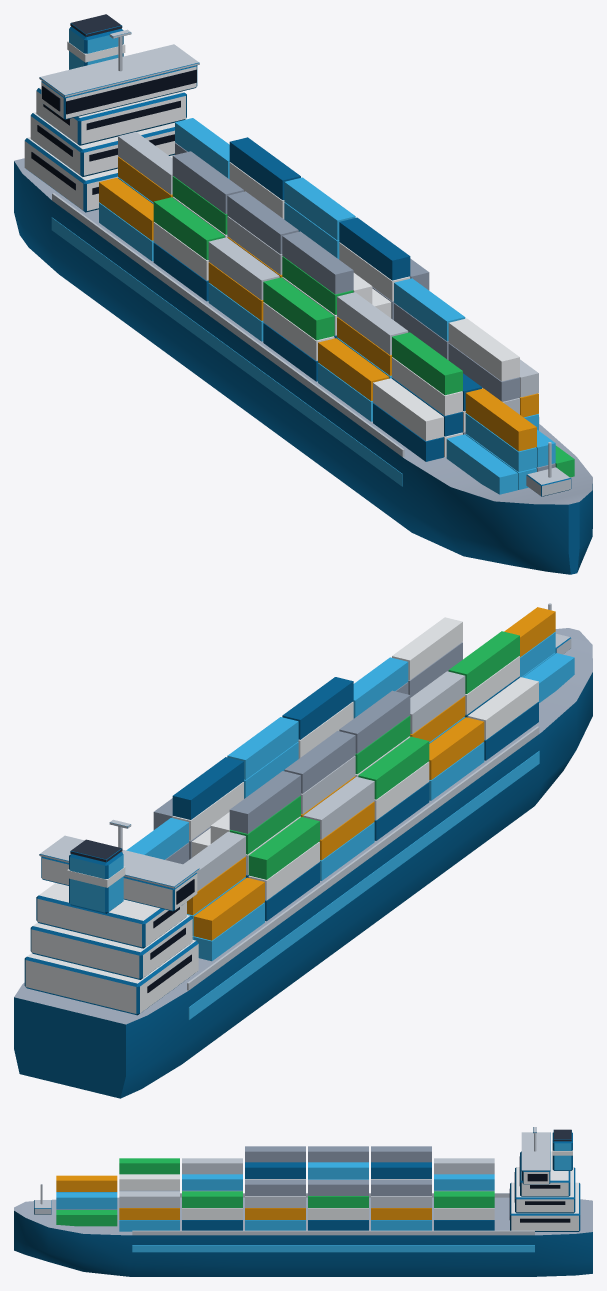
File: container_ship.glb
3 views of the same model, one above another, from view 1: azimuth 30°, elevation 25°; view 2: azimuth 150°, elevation 25°; view 3: azimuth 270°, elevation 25° (orthographic). The views are drawn at different scales.
Visible parts, largest first — view 1: container_ship; view 2: container_ship; view 3: container_ship.
Part boxes in pixels (bbox=[...]): container_ship: bbox=[14, 14, 592, 574]; container_ship: bbox=[14, 603, 592, 1098]; container_ship: bbox=[14, 1127, 592, 1276].
Bounding box in the file's own units: 18.12 × 28.5 × 115.
